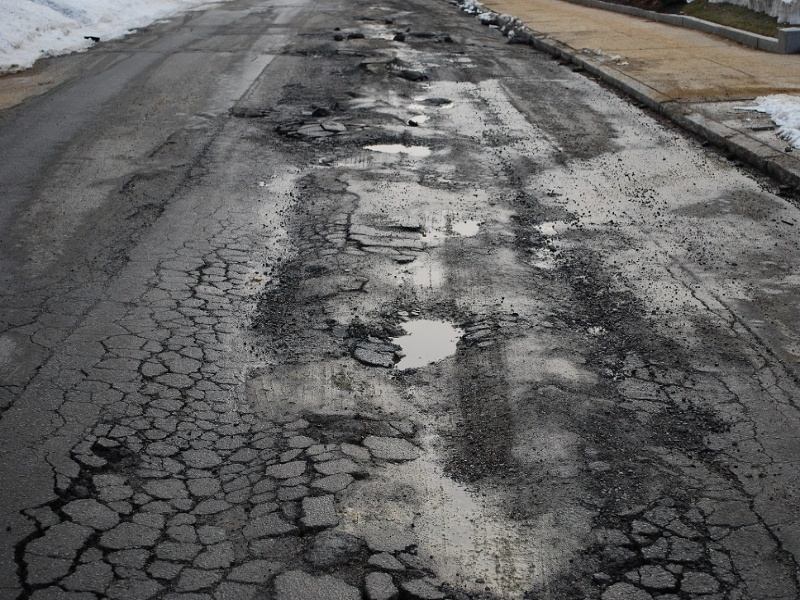pothole: (46, 429, 129, 514), (376, 302, 470, 375), (230, 87, 333, 143), (347, 132, 440, 160), (389, 67, 438, 89), (422, 96, 456, 110)
